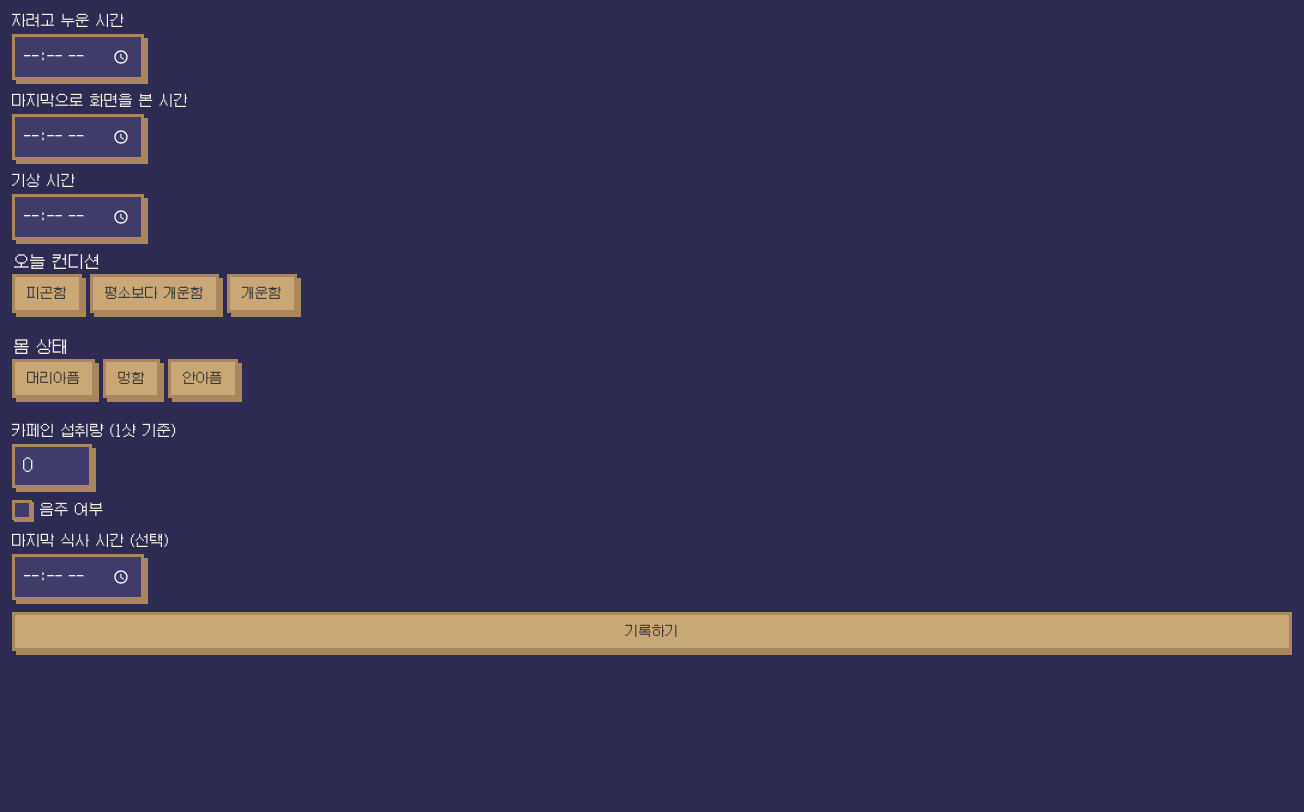
it: SleepEntryForm › shows an error and does not submit when required fields are missing
Click the button "기록하기": click(652, 632) left=12, top=612, right=1292, bottom=651
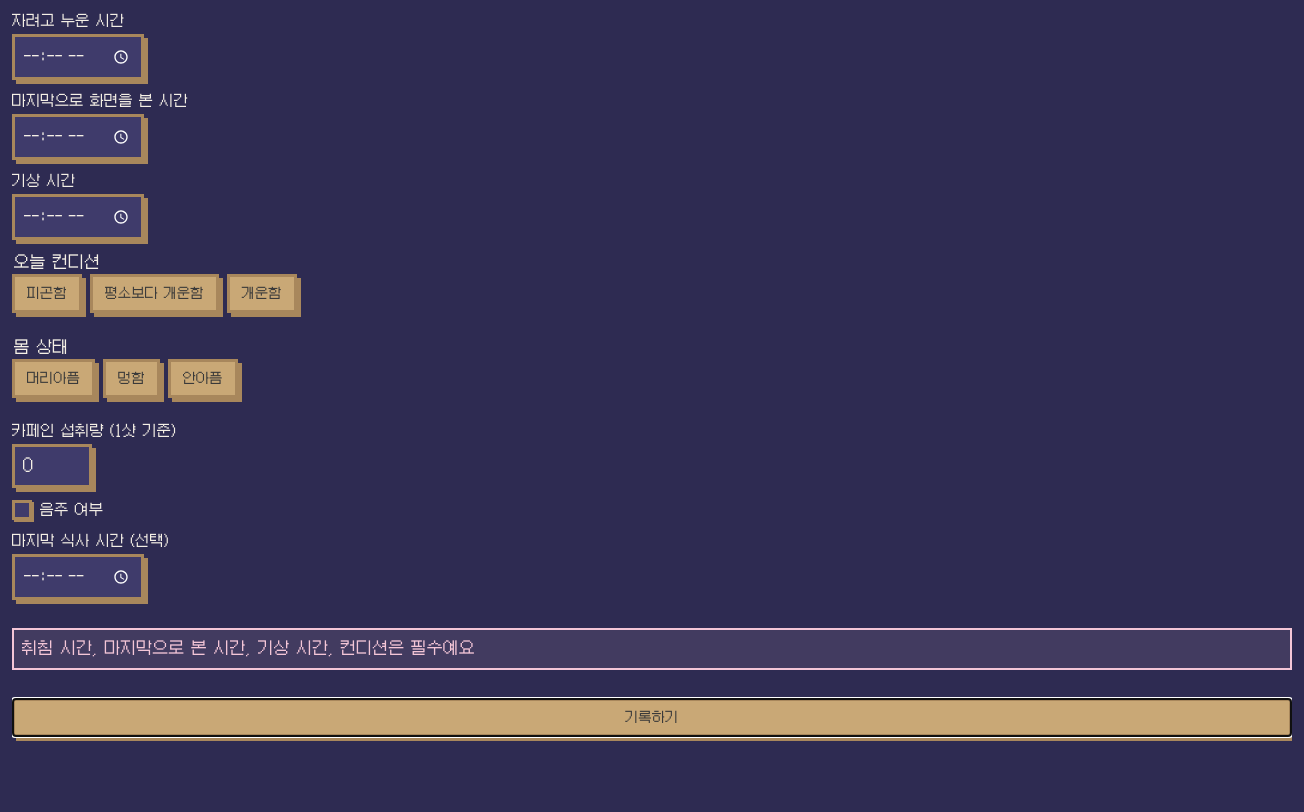
Check: the text "취침 시간, 마지막으로 본 시간, 기상 시간, 컨디션은 필수예요" is shown, box left=12, top=628, right=1292, bottom=670
